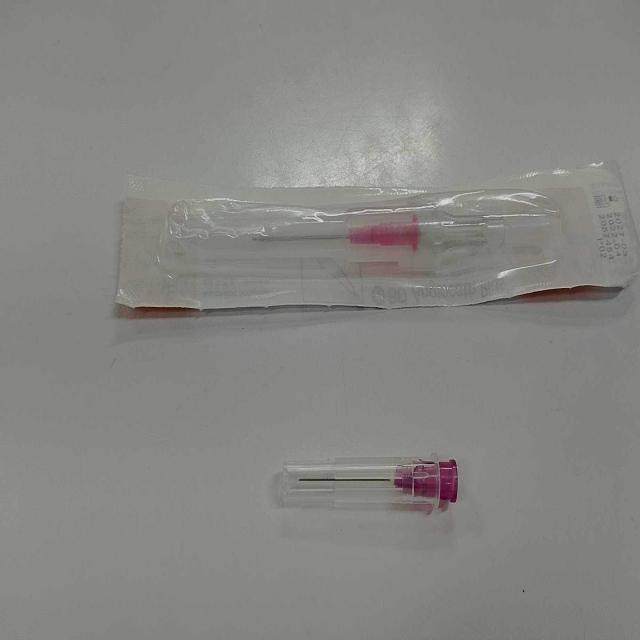General: (112, 158, 637, 315)
Sharps: (274, 453, 459, 514)
